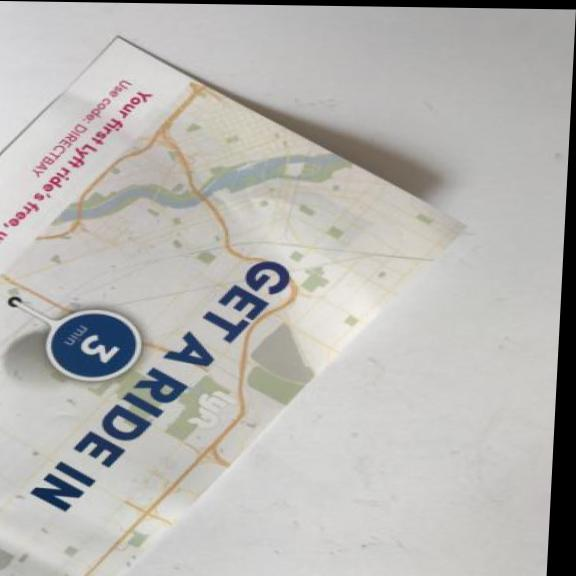Kertas: (0, 26, 480, 576)
